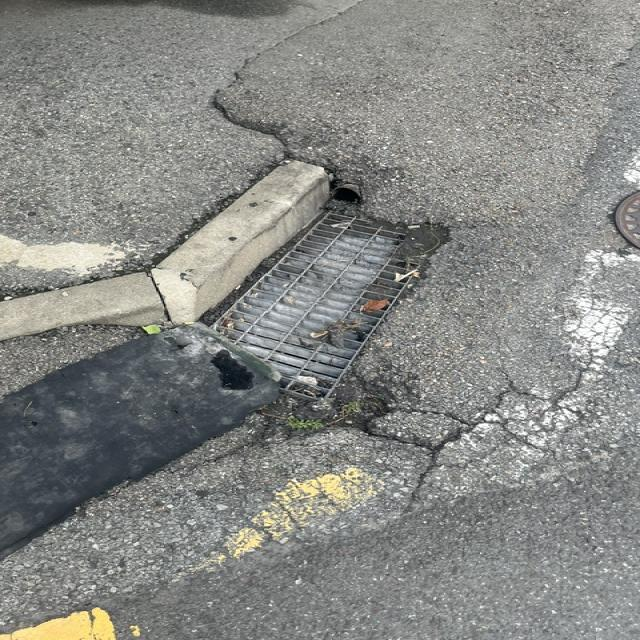drain_area: (225, 218, 412, 382)
drain_full: (177, 211, 442, 402)
